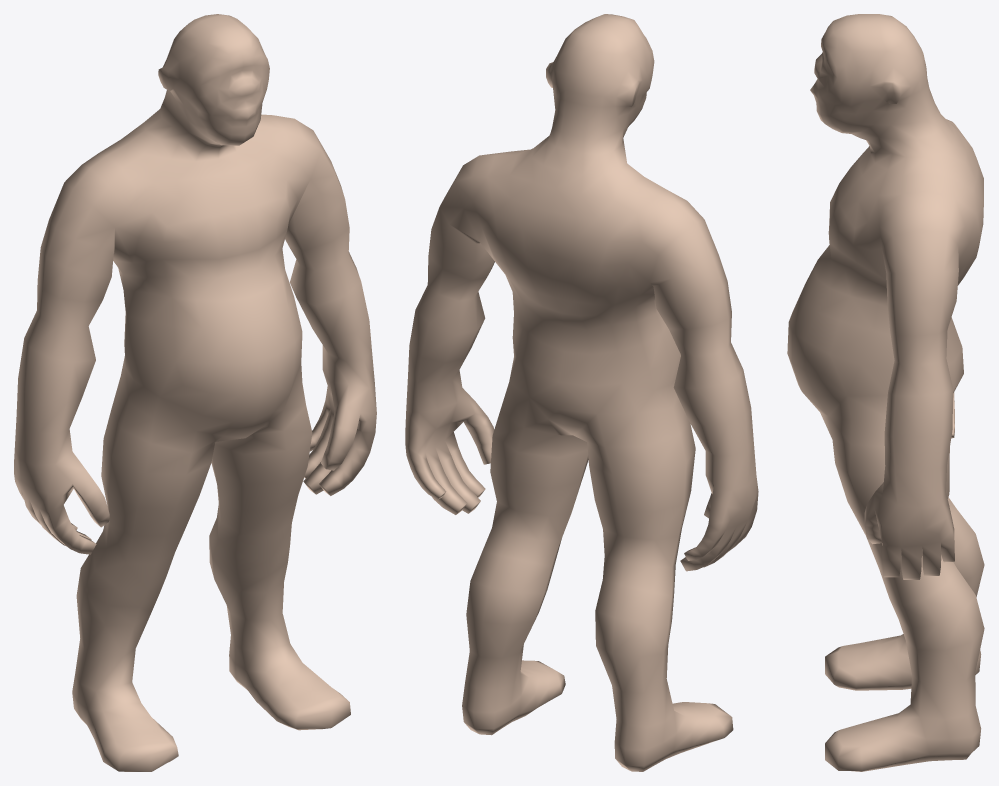
Rendered from SM_Monster.fbx.
3 renders of one model, left to right at view 1: azimuth 30°, elevation 25°; view 2: azimuth 150°, elevation 25°; view 3: azimuth 270°, elevation 25°, orthographic. The views are drawn at different scales.
Parts seen in each view (by area): view 1: cyclop; view 2: cyclop; view 3: cyclop.
Boxes of the visible parts, x1=… form: cyclop: x1=14, y1=14, x2=376, y2=771; cyclop: x1=405, y1=14, x2=758, y2=771; cyclop: x1=787, y1=14, x2=984, y2=771.
Bounding box in the file's own units: 98.51 × 195 × 49.61.
